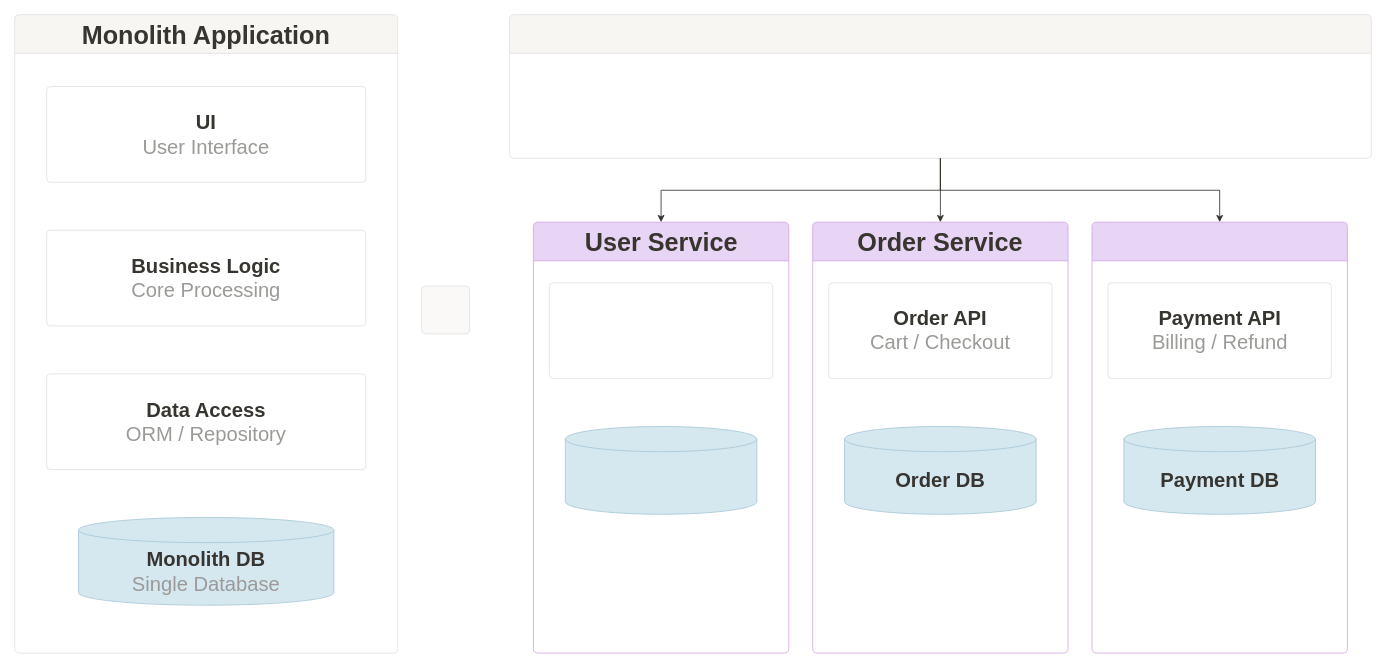
Some shapes in this 1386 by 668 pixel diagram are drawn without their labels. The shapes that lost their labels are listed below. From the top down, each one's box as (x1, y1, x2, y2) in pixels, then its label:
(509, 14, 1371, 158): API Gateway
(421, 285, 470, 334): vs
(549, 282, 773, 379): User API Auth / Profile
(1091, 221, 1347, 653): Payment Service
(564, 426, 757, 514): User DB
